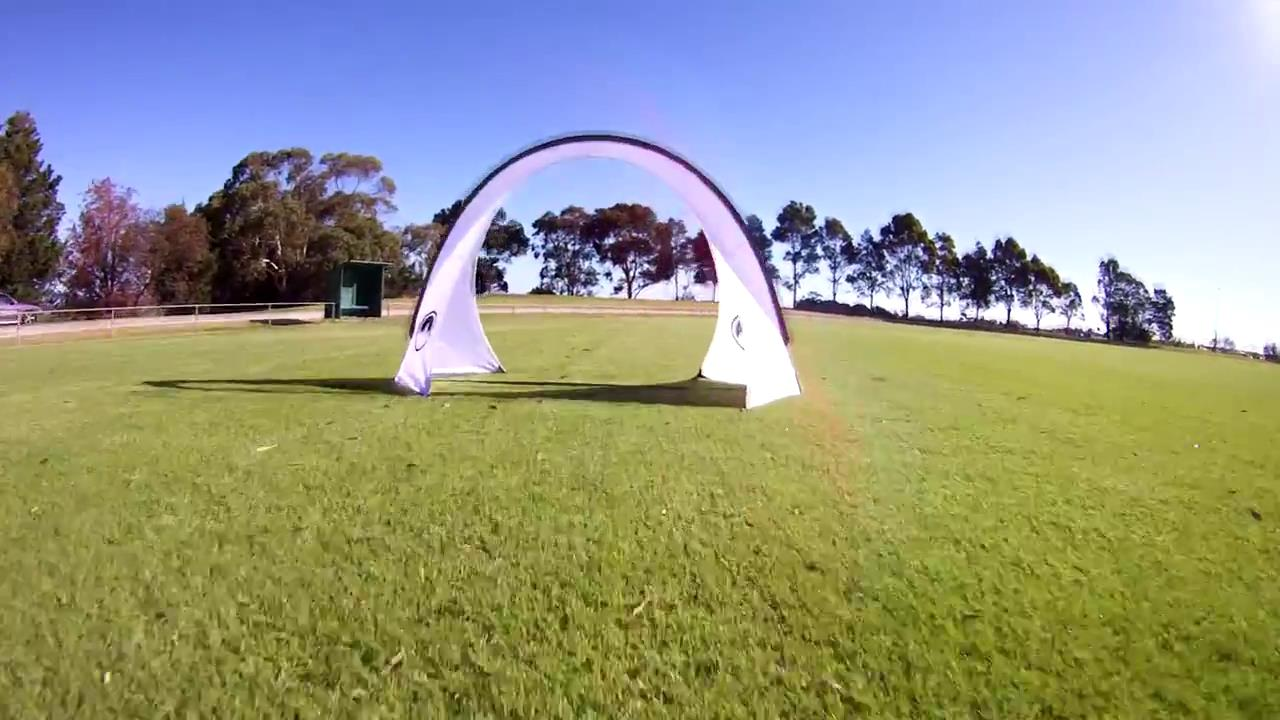gate: (392, 128, 811, 411)
